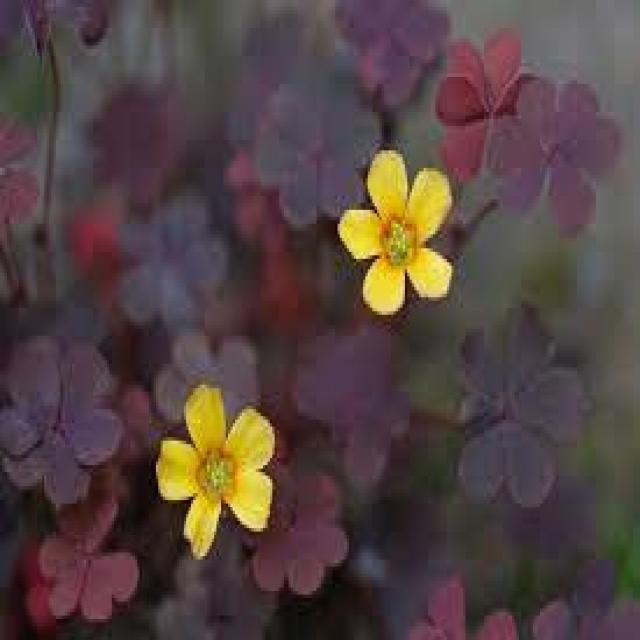organic waste: (152, 383, 288, 558), (335, 145, 466, 320)
